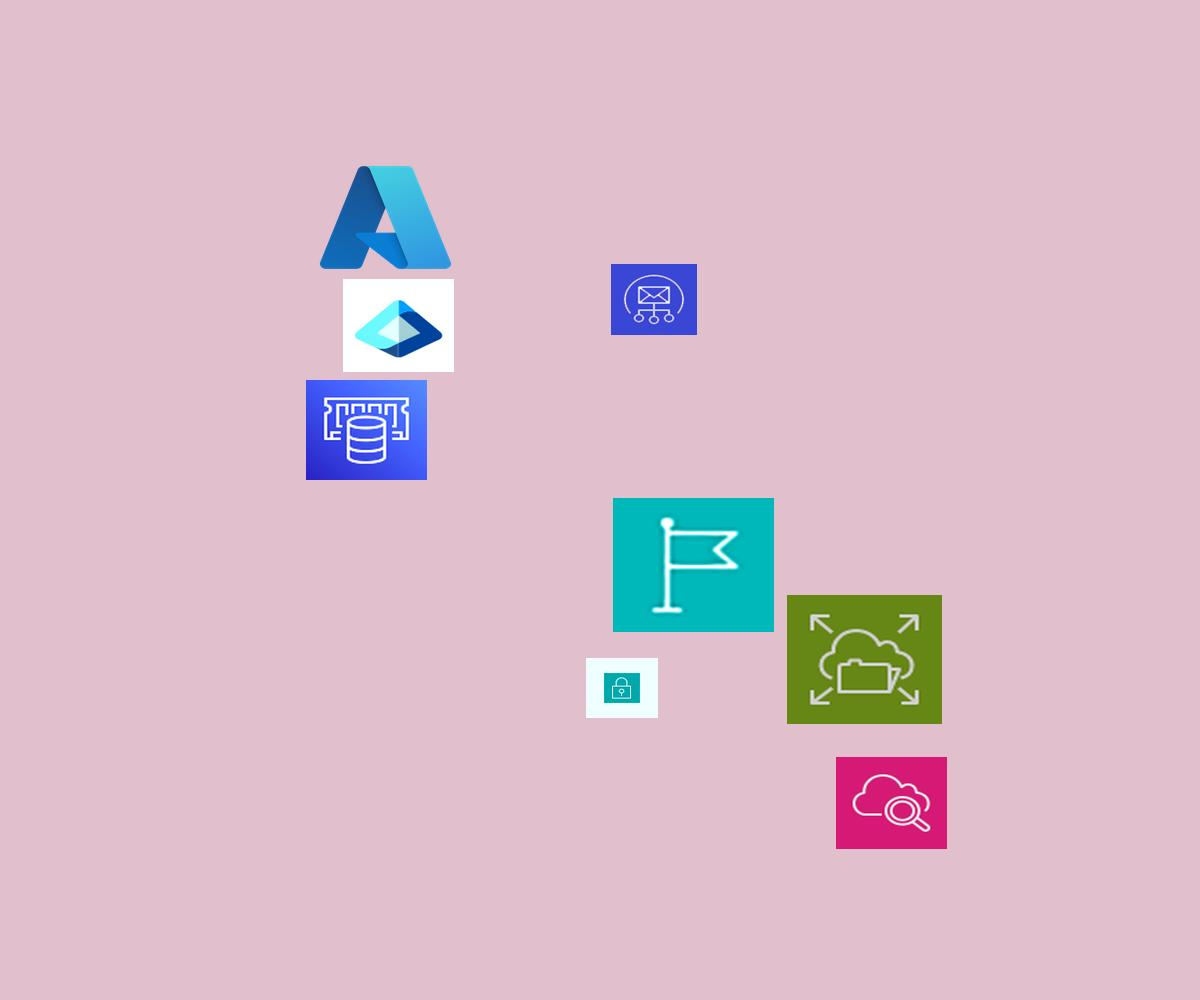AWS-CloudWatch: (836, 757, 947, 849)
AWS-EFS: (787, 595, 942, 724)
AWS-ElastiCache: (306, 380, 427, 480)
AWS-Private-subnet: (586, 658, 658, 718)
AWS-Region: (613, 498, 774, 632)
AWS-Simple-Email-Service: (611, 264, 697, 335)
Azure_microsoft_entra: (343, 279, 454, 372)
Azure_services: (314, 158, 457, 277)
